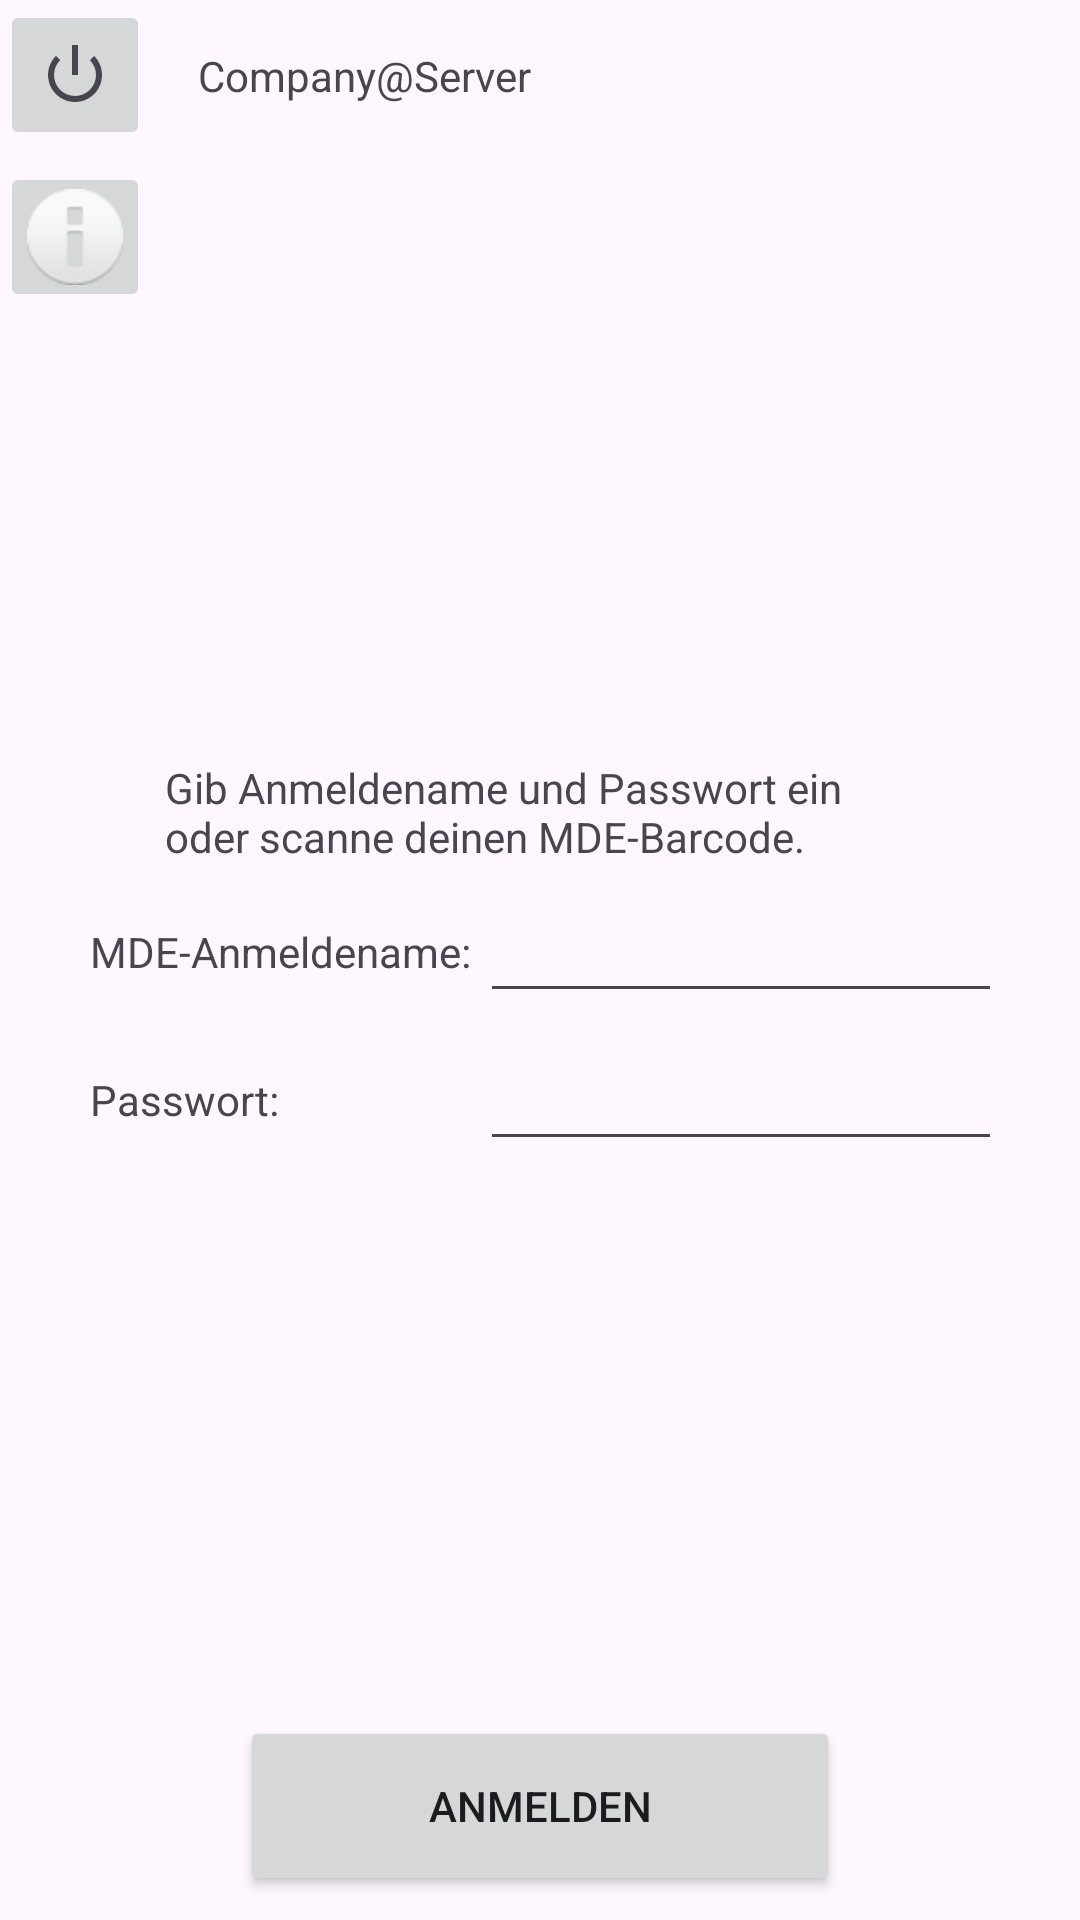

Icon bounding boxes for this 1080*1920 phone screenshot, format (x1, y1, x2, y2):
info: (12, 180, 138, 294)
lock power off: (12, 18, 138, 132)
